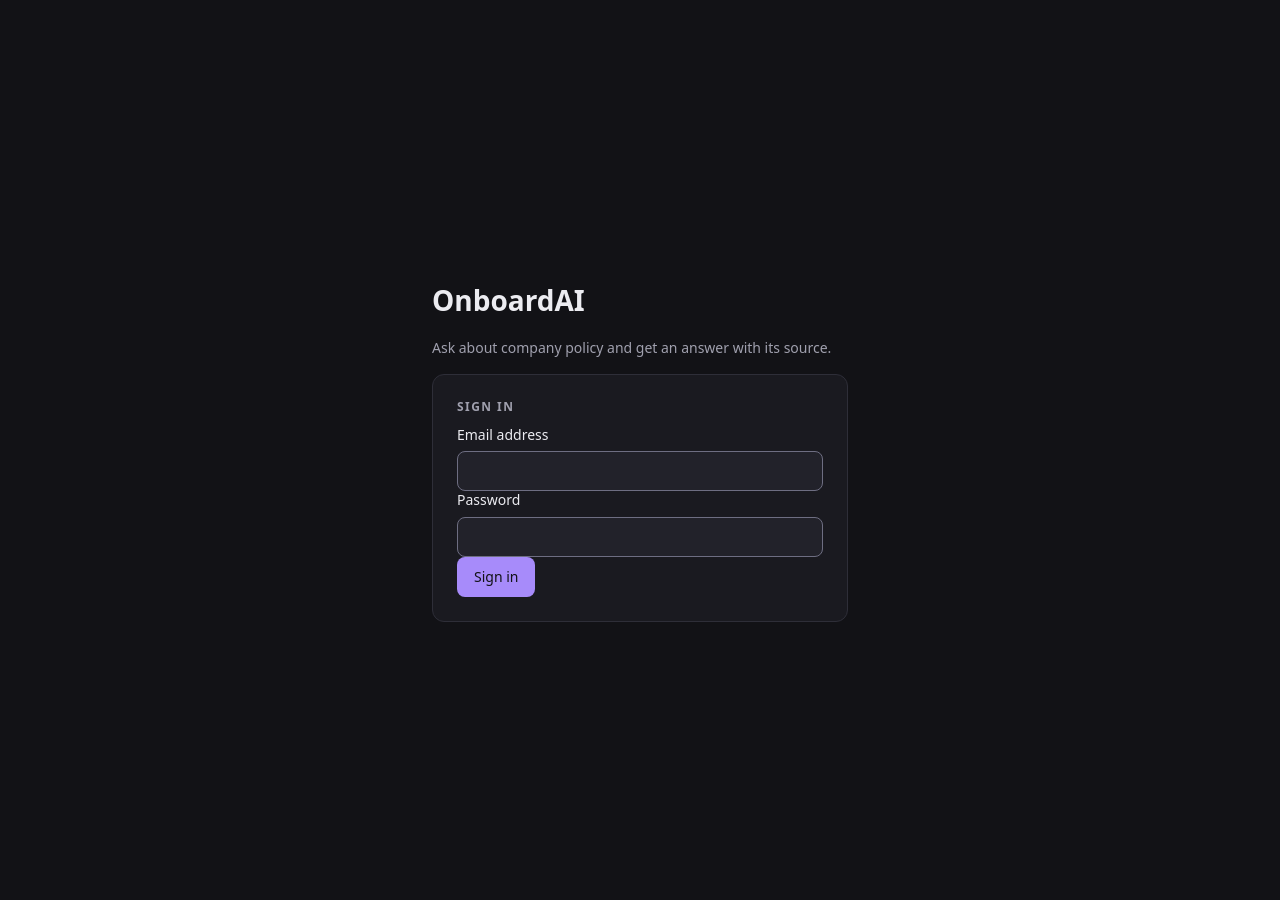
Scenario: signing in › shows the name and role out of the token
Type "hr@onboardai.example" into the field labelled "Email address".
click(640, 471); type("hr@onboardai.example")  # box 457,451 -> 823,491
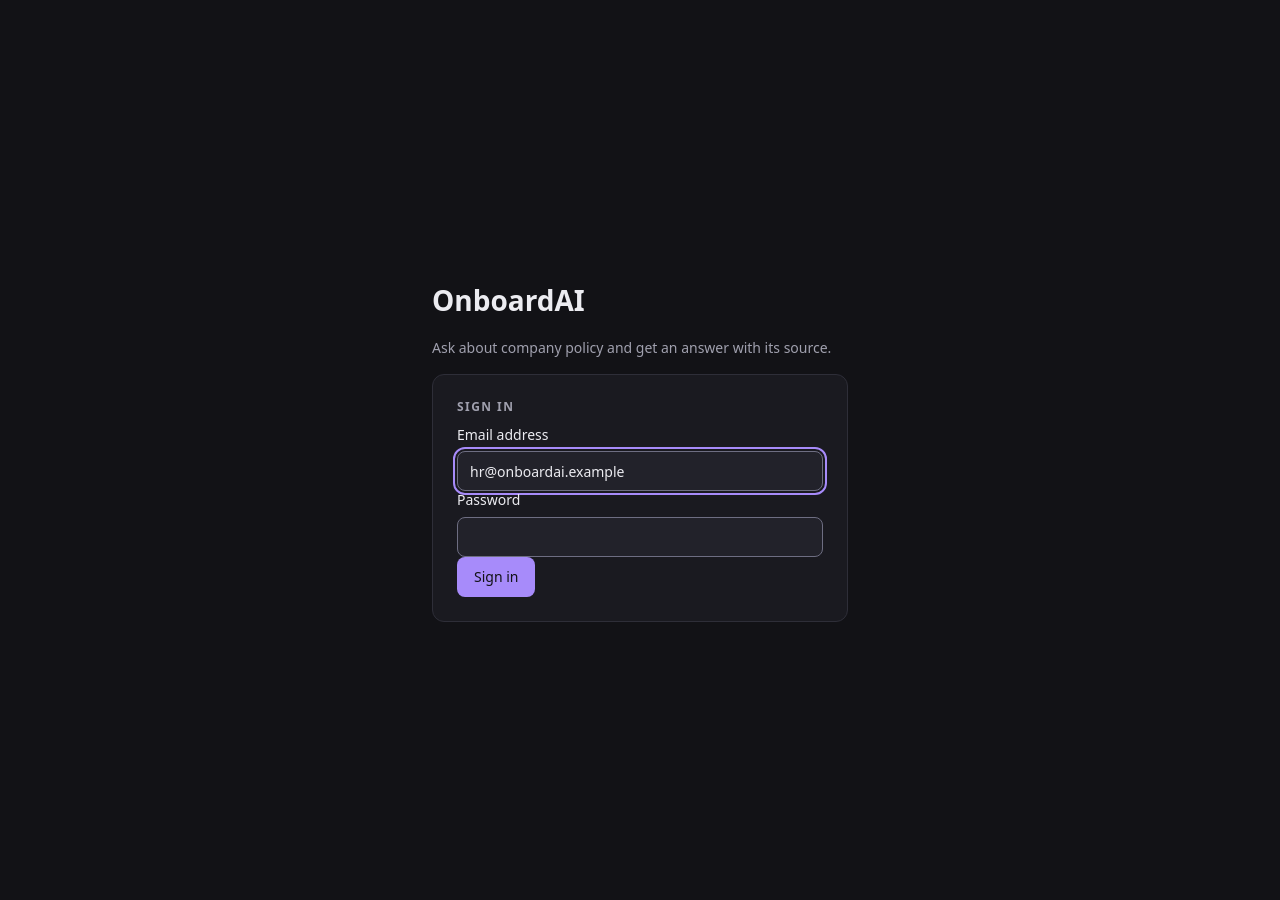
Type "a development password" into the password field labelled "Password".
click(640, 536); type("a development password")  # box 457,516 -> 823,556
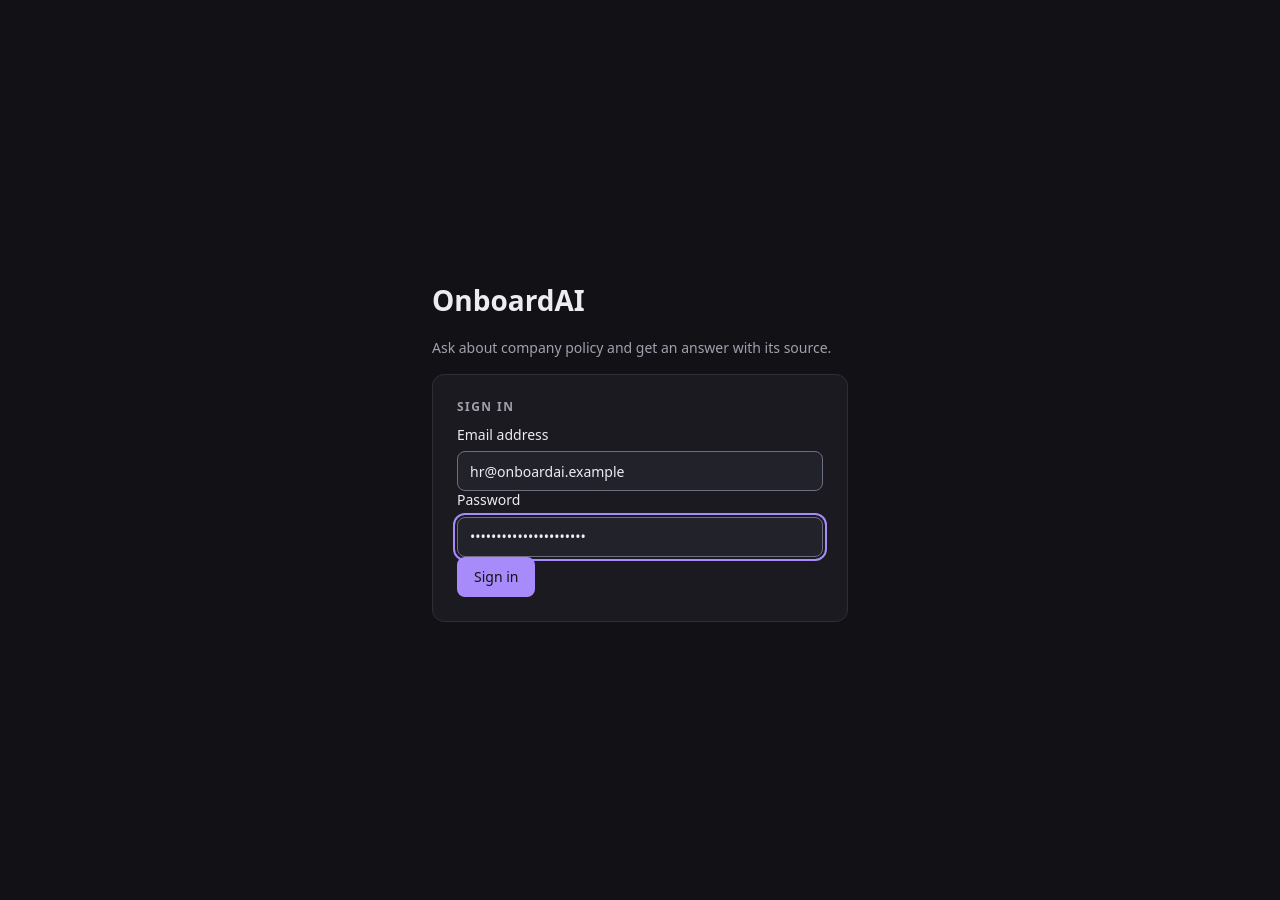
Click the button "Sign in".
click(496, 576)  # box 457,556 -> 536,596
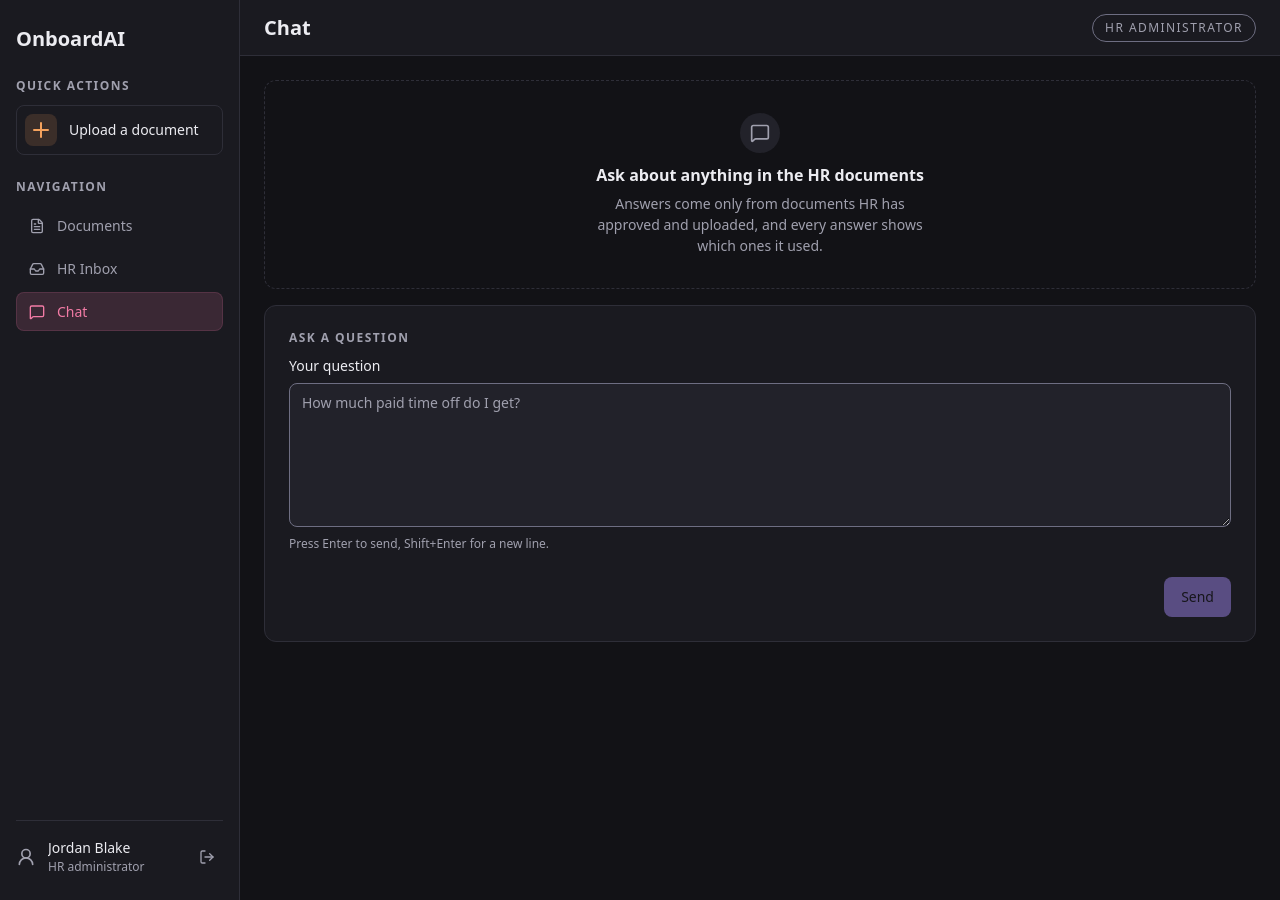
Check: the text "Jordan Blake" is shown, box 48,838 -> 130,857
Check: the text "HR administrator" is shown 2 times, box 48,858 -> 144,875; 1092,14 -> 1256,42
